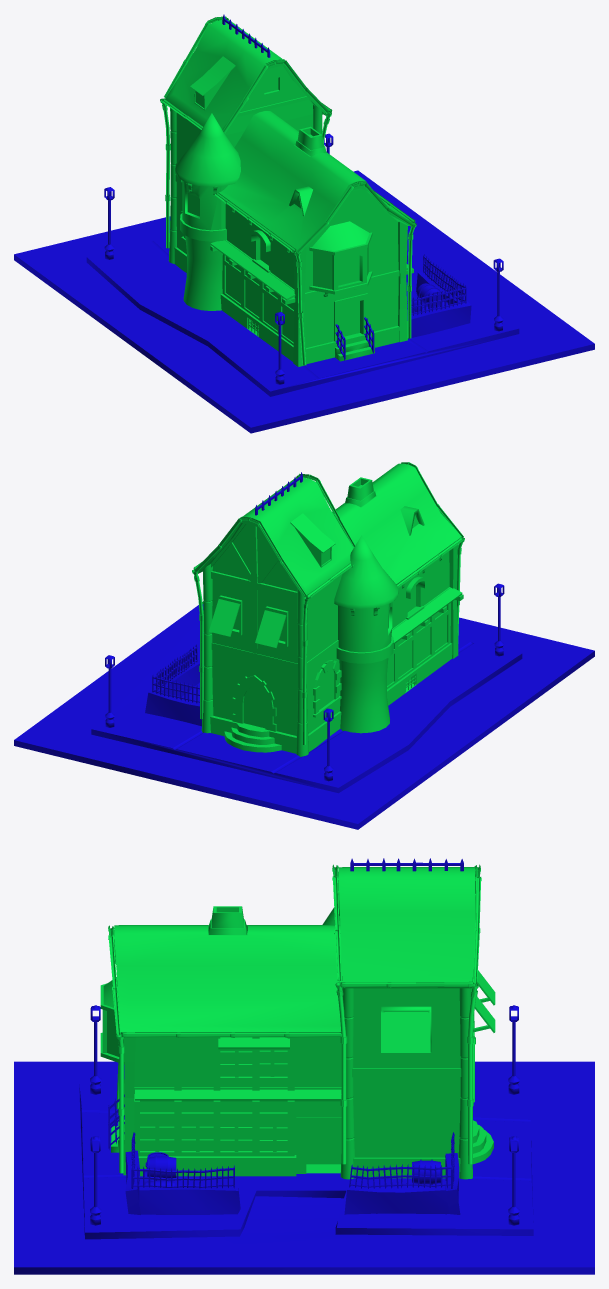
Rendered from Full_house.FBX.
3 renders of one model, top to bottom at view 1: azimuth 30°, elevation 25°; view 2: azimuth 150°, elevation 25°; view 3: azimuth 270°, elevation 25°, orthographic. The views are drawn at different scales.
Parts seen in each view (by area): view 1: Enviroment; view 2: Enviroment; view 3: Enviroment.
Part boxes in pixels (x1=…): Enviroment: x1=14, y1=14, x2=594, y2=433; Enviroment: x1=14, y1=462, x2=594, y2=829; Enviroment: x1=14, y1=858, x2=594, y2=1274.
Bounding box in the file's own units: 496 × 341 × 591.
